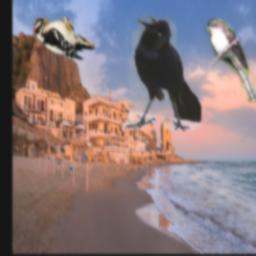Crow: (123, 16, 201, 132)
Cuckoo: (204, 19, 256, 102)
Woodpecker: (35, 14, 97, 60)
